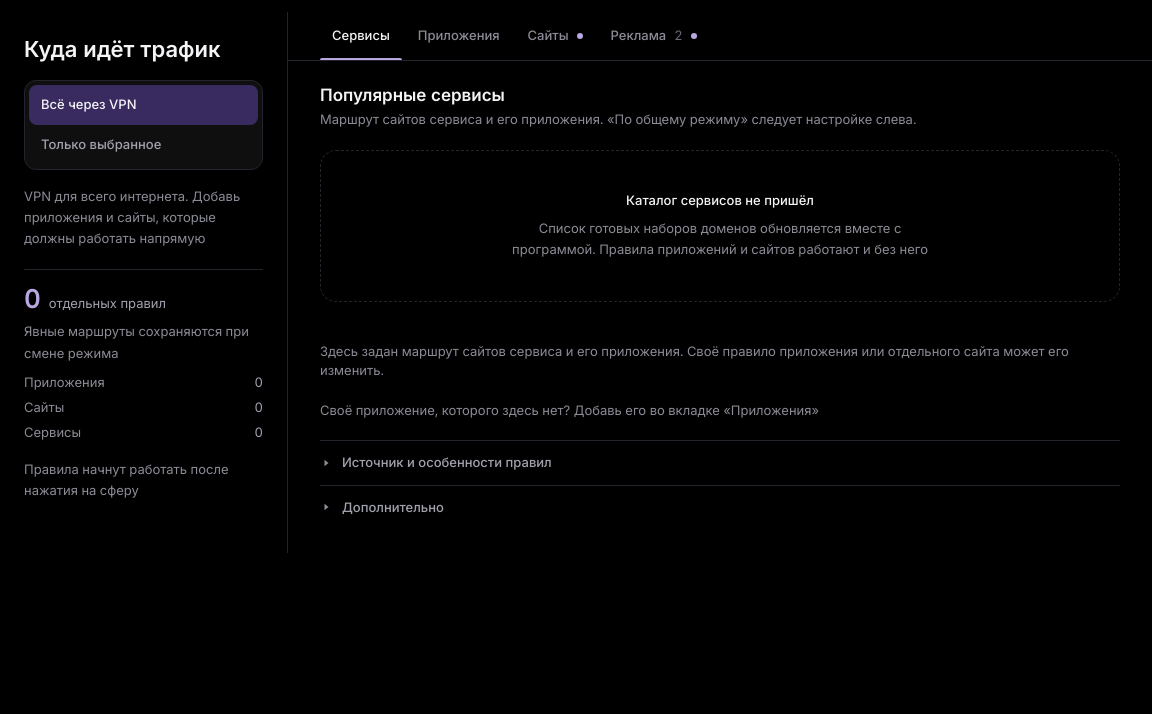
Test: вкладка «Реклама» › исключение удаляется вторым нажатием
Click the tab "Реклама 2".
click(654, 36)  # box [598,12,709,60]
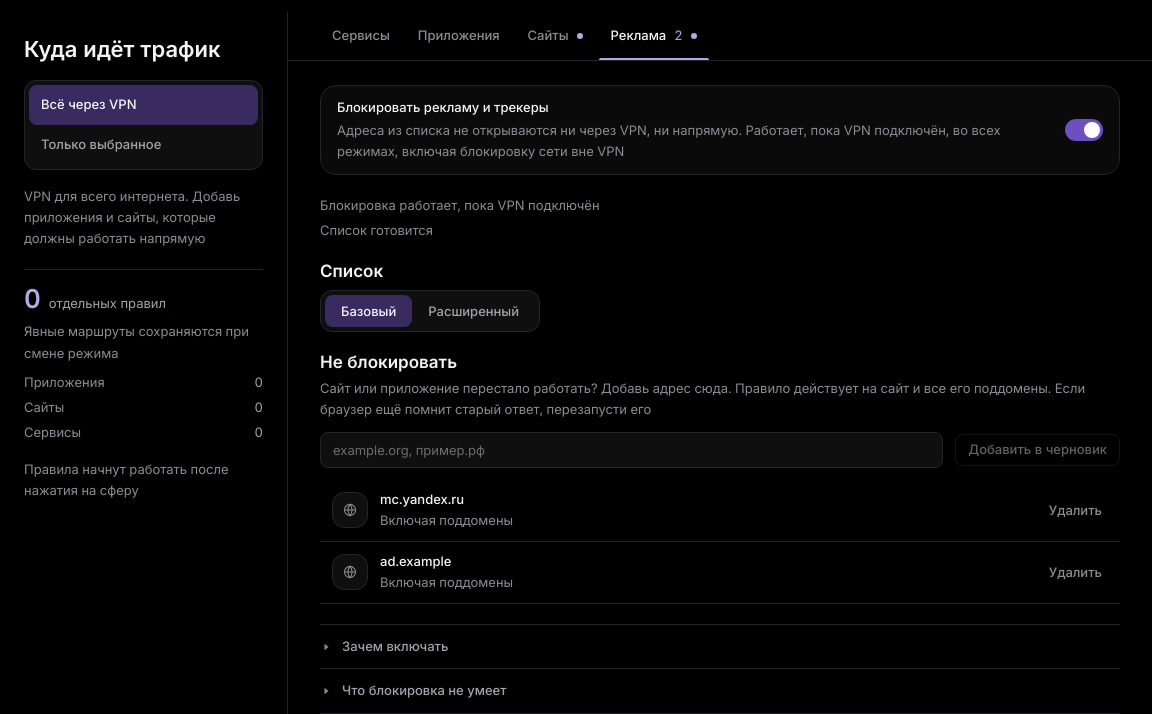
Click the button with aria-label "Удалить исключение mc.yandex.ru".
click(1075, 510)  # box [1043,494,1108,526]
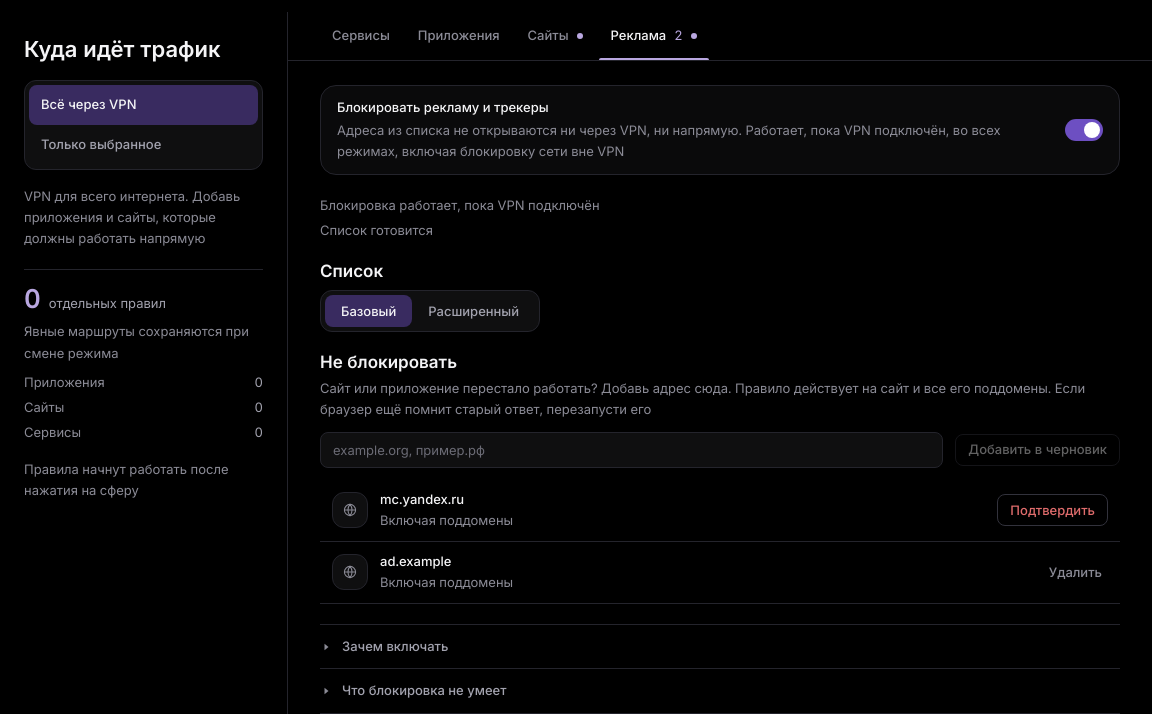
expect the button with aria-label "Удалить исключение ad.example" is shown: met, box [1043,556,1108,588]
Click the button with aria-label "Подтвердить удаление mc.yandex.ru".
click(1053, 510)  # box [997,494,1108,526]
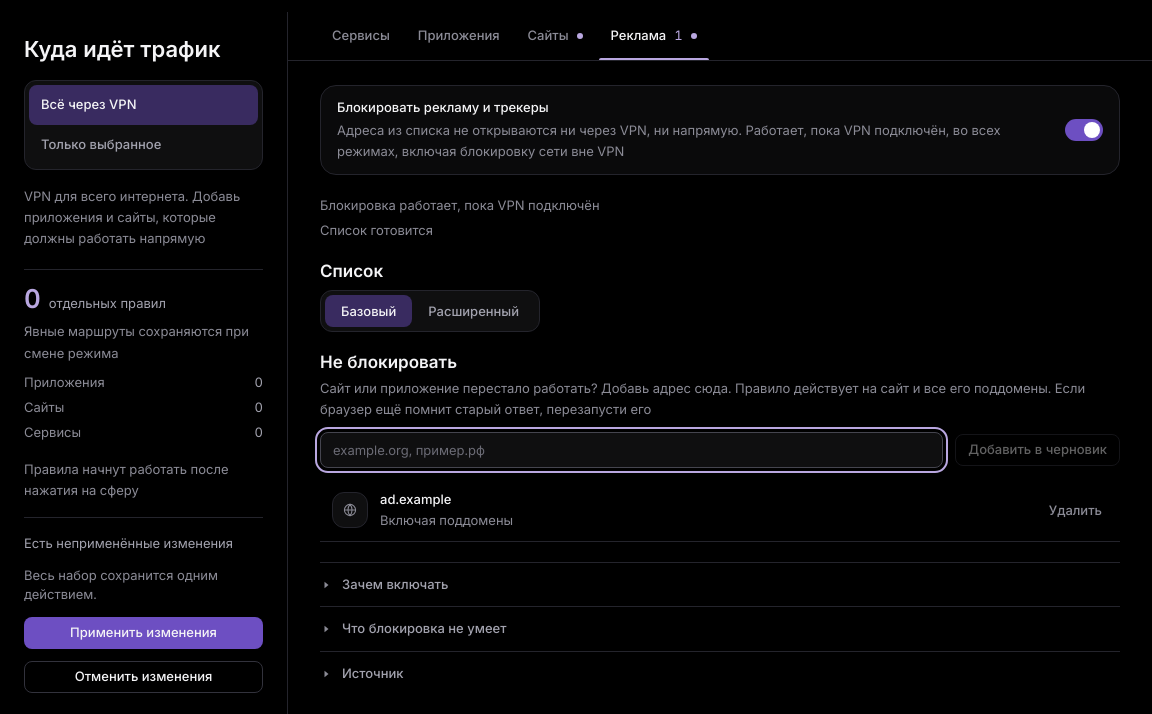
expect the text "mc.yandex.ru" is gone: met
expect the text "Есть неприменённые изменения" is shown: met, box [24,534,263,554]
